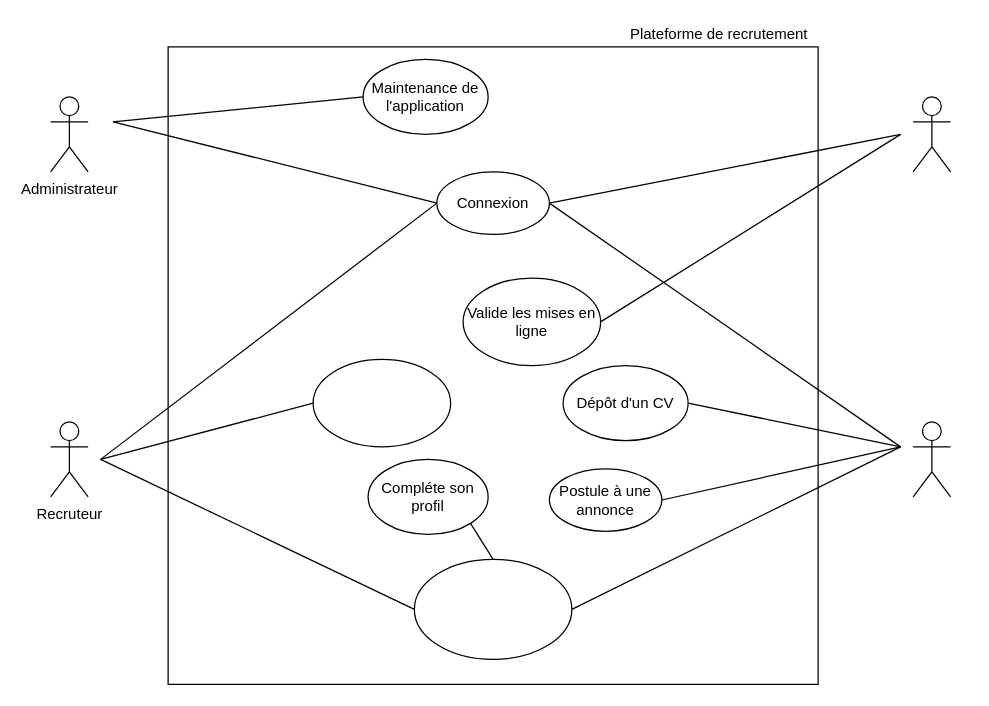
Image size: 989x706. Some labels were removed from this diagram. Each missing label, with the box of its shape:
Candidat: (912, 421, 951, 497)
Consultant: (912, 96, 951, 172)
Création de compte: (413, 558, 572, 659)
Dépôt d'une annonce: (312, 358, 451, 447)
